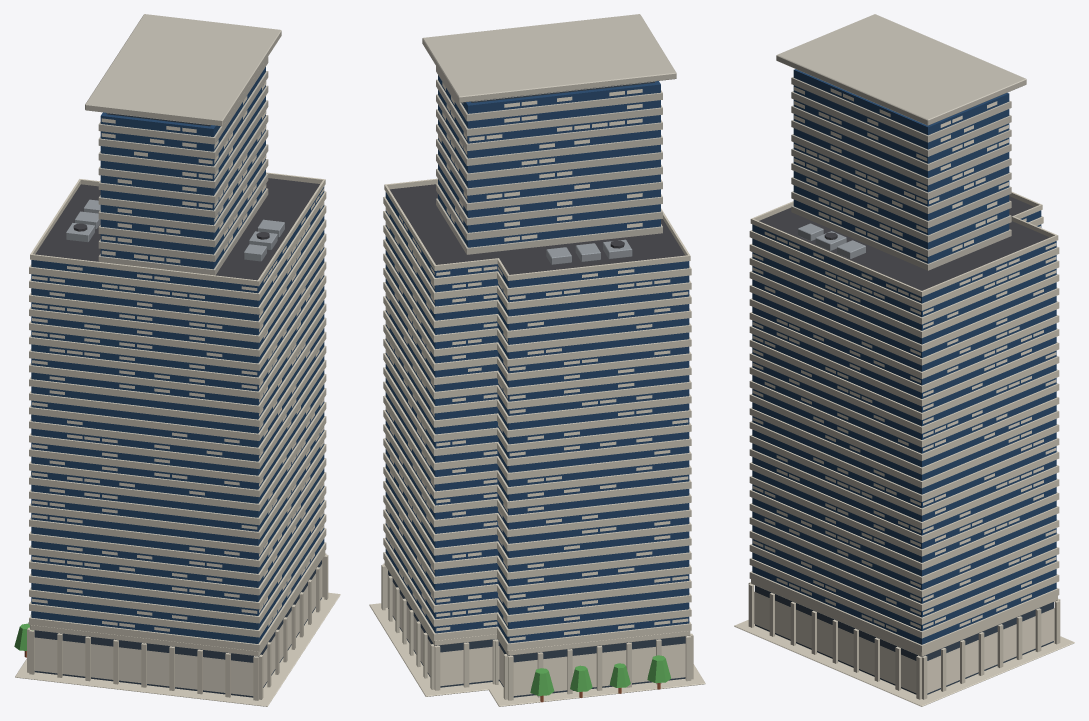
Rendered from paramount.glb.
3 renders of one model, left to right at view 1: azimuth 30°, elevation 25°; view 2: azimuth 150°, elevation 25°; view 3: azimuth 270°, elevation 25°, orthographic. The views are drawn at different scales.
Visible parts, largest first — view 1: paramount_body, paramount_night_glow; view 2: paramount_body, paramount_night_glow; view 3: paramount_body, paramount_night_glow.
Part boxes in pixels (bbox=[...]): paramount_body: bbox=[14, 14, 340, 706]; paramount_night_glow: bbox=[31, 81, 324, 695]; paramount_body: bbox=[369, 14, 705, 706]; paramount_night_glow: bbox=[385, 81, 688, 695]; paramount_body: bbox=[734, 14, 1074, 706]; paramount_night_glow: bbox=[752, 87, 1056, 693].
Size of the model in its own units: 76.38 by 128 by 70.52.
